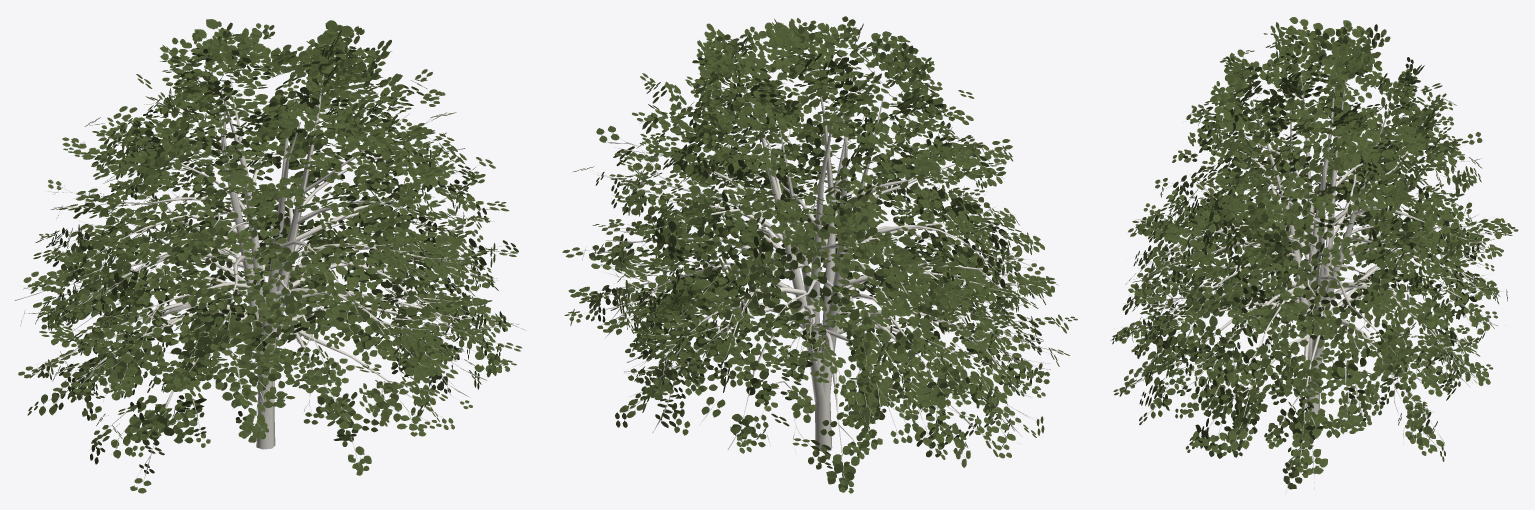
The picture shows the model from 3 angles, left to right: view 1: azimuth 30°, elevation 25°; view 2: azimuth 150°, elevation 25°; view 3: azimuth 270°, elevation 25°; orthographic projection. The views are drawn at different scales.
Visible parts, largest first — view 1: NT_MH_0000; view 2: NT_MH_0000; view 3: NT_MH_0000.
Boxes of the visible parts, x1,y1,x2,y2 form: NT_MH_0000: (14,19,525,493); NT_MH_0000: (562,16,1077,493); NT_MH_0000: (1110,17,1518,491).
Size of the model in its own units: 28.46 by 24.23 by 23.11.
Materials: 2 (1 with a texture image).
